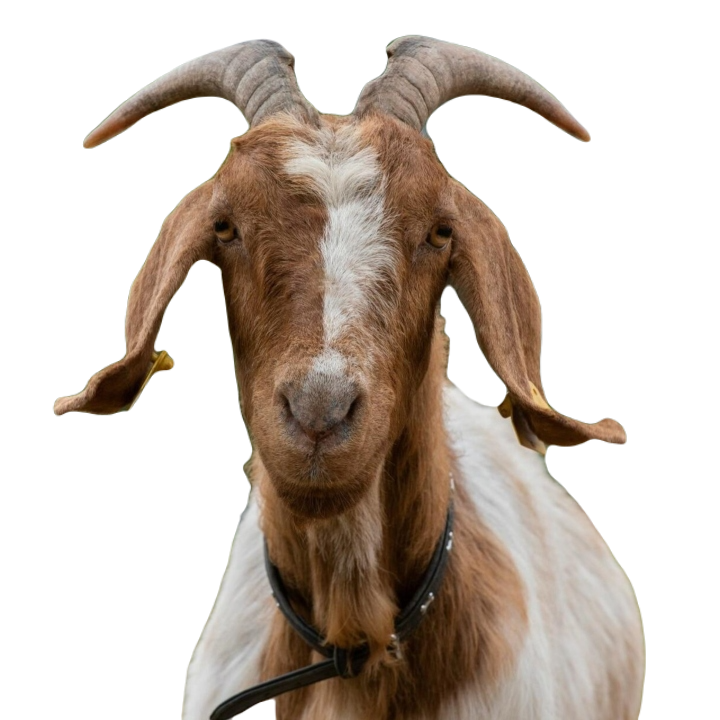Goat: (53, 31, 647, 719)
